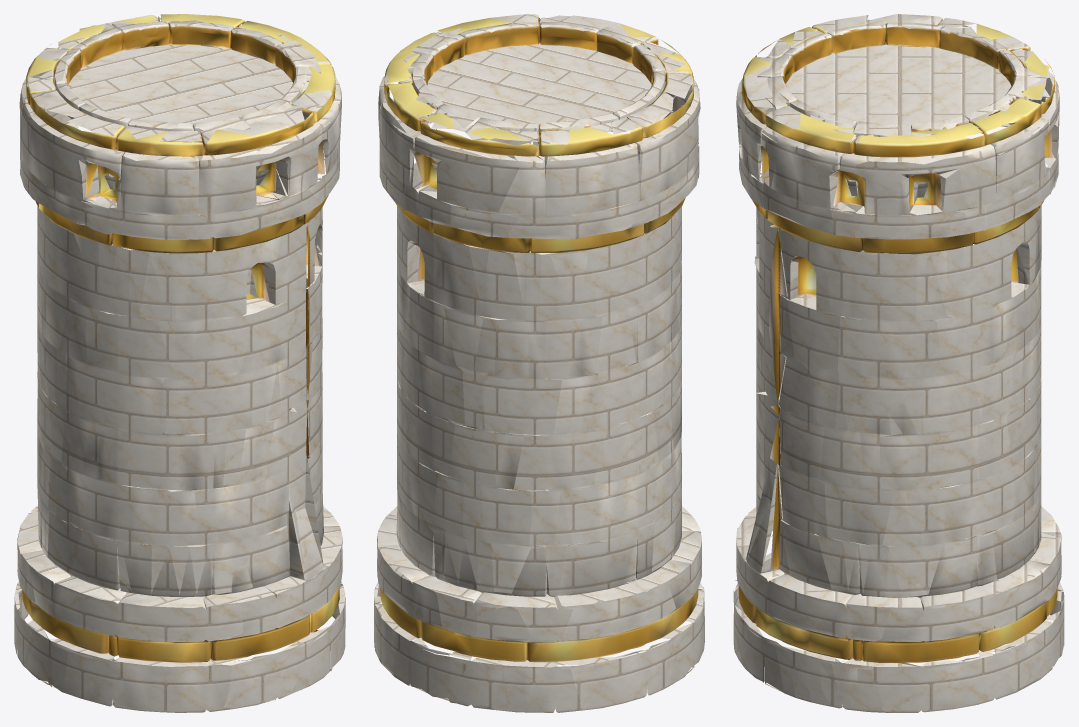
The model's file is HaloPart_GateTowerL_retile.glb.
3 renders of one model, left to right at view 1: azimuth 30°, elevation 25°; view 2: azimuth 150°, elevation 25°; view 3: azimuth 270°, elevation 25°, orthographic.
Visible parts, largest first — view 1: HaloPart_GateTowerL_Stone, HaloPart_GateTowerL_Trim; view 2: HaloPart_GateTowerL_Stone, HaloPart_GateTowerL_Trim; view 3: HaloPart_GateTowerL_Stone, HaloPart_GateTowerL_Trim.
Part boxes in pixels (left/top/right/bottom): HaloPart_GateTowerL_Stone: left=14, top=14, right=345, bottom=712; HaloPart_GateTowerL_Trim: left=22, top=14, right=339, bottom=704; HaloPart_GateTowerL_Stone: left=374, top=14, right=704, bottom=712; HaloPart_GateTowerL_Trim: left=380, top=15, right=698, bottom=708; HaloPart_GateTowerL_Stone: left=733, top=14, right=1064, bottom=712; HaloPart_GateTowerL_Trim: left=735, top=18, right=1057, bottom=706.
Bounding box in the file's own units: 0.5164 × 0.9807 × 0.5167.
Materials: 2 (2 with a texture image).
